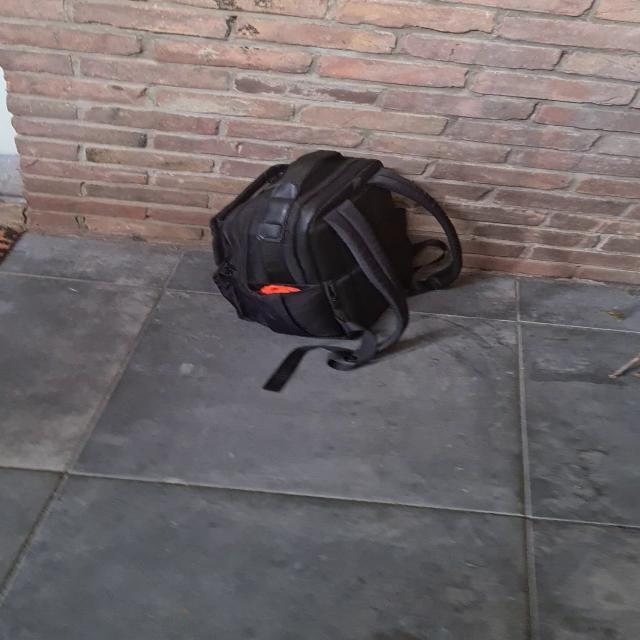backpack: (199, 143, 472, 369)
